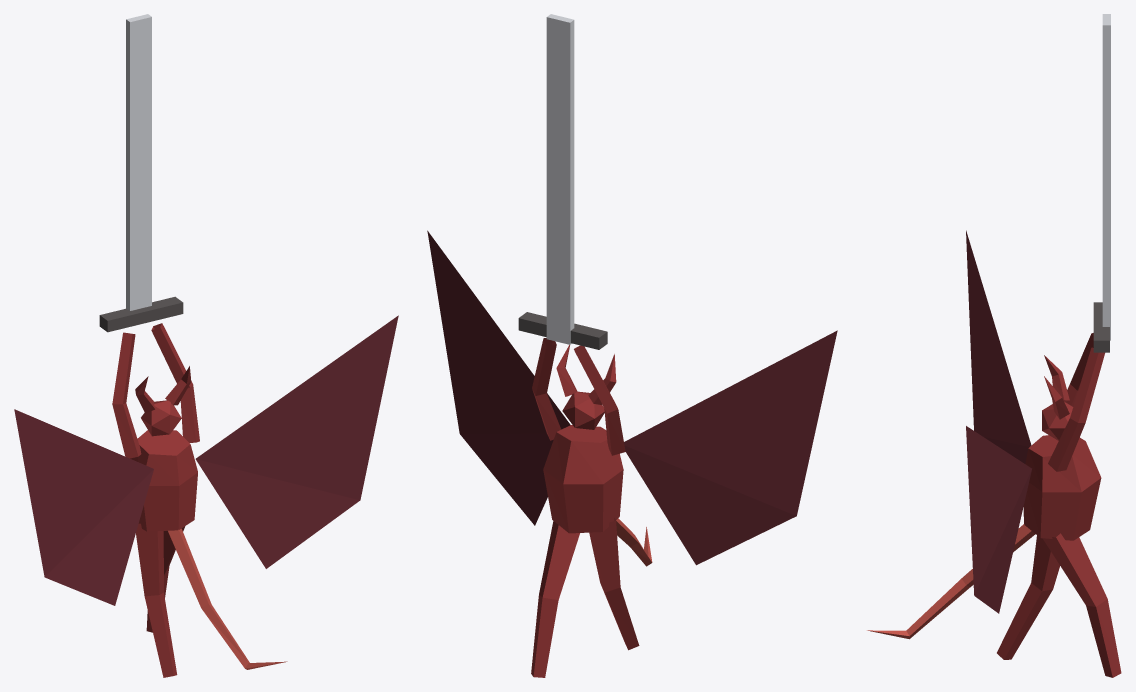
The model's file is Circle8Piece_D9Sword.obj.
3 views of the same model, side by side, from view 1: azimuth 30°, elevation 25°; view 2: azimuth 150°, elevation 25°; view 3: azimuth 270°, elevation 25° (orthographic). The views are drawn at different scales.
Parts seen in each view (by area): view 1: Circle8Piece_D9Sword; view 2: Circle8Piece_D9Sword; view 3: Circle8Piece_D9Sword.
Part boxes in pixels (x1=…): Circle8Piece_D9Sword: x1=14, y1=14, x2=398, y2=677; Circle8Piece_D9Sword: x1=427, y1=14, x2=837, y2=677; Circle8Piece_D9Sword: x1=867, y1=14, x2=1121, y2=677.
Bounding box in the file's own units: 2.8 × 4.32 × 1.54.
1 material, 1 textured.
